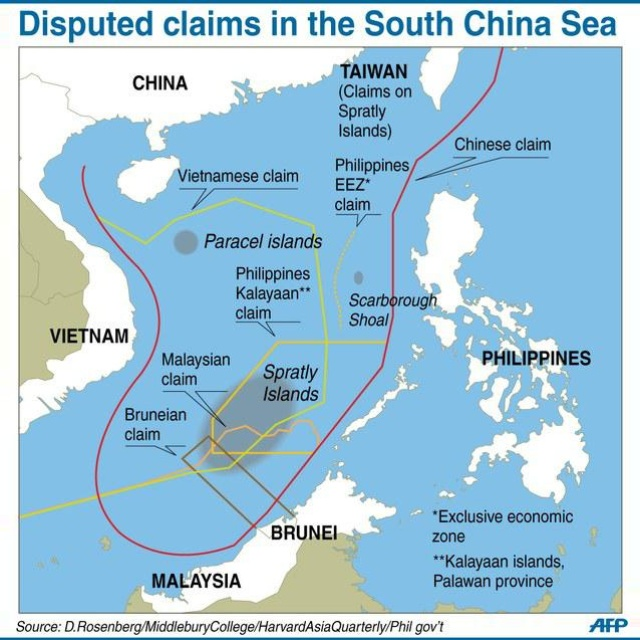Nine Dash Line: (59, 43, 540, 584)
